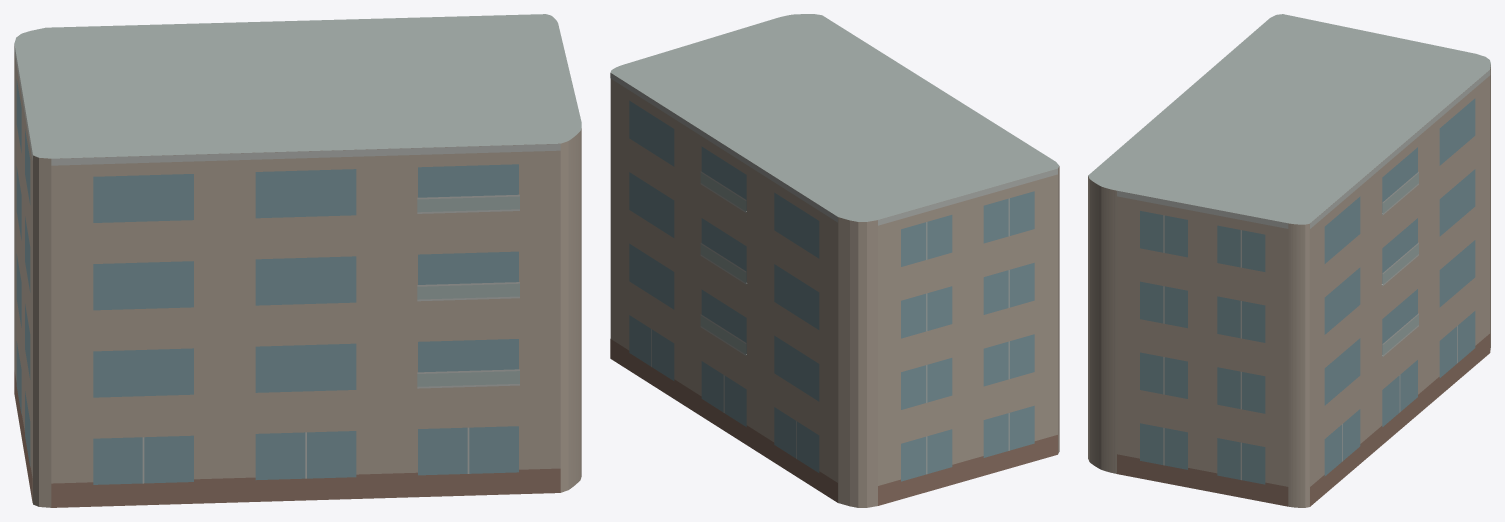
File: survey-upis-32711802.glb
3 renders of one model, left to right at view 1: azimuth 30°, elevation 25°; view 2: azimuth 150°, elevation 25°; view 3: azimuth 270°, elevation 25°, orthographic. The views are drawn at different scales.
Visible parts, largest first — view 1: survey-upis-32711802.tmp; view 2: survey-upis-32711802.tmp; view 3: survey-upis-32711802.tmp.
Boxes of the visible parts, box(x1,y1,x2,y2) form: survey-upis-32711802.tmp: box(14, 14, 581, 507); survey-upis-32711802.tmp: box(610, 14, 1059, 507); survey-upis-32711802.tmp: box(1088, 14, 1490, 507).
Bounding box in the file's own units: 19.45 × 12.2 × 15.73.
